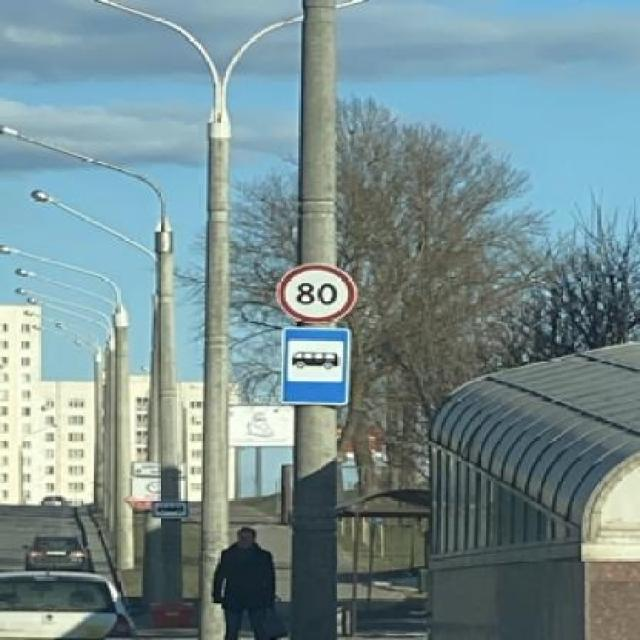forb_speed_over_80: (282, 263, 356, 323)
